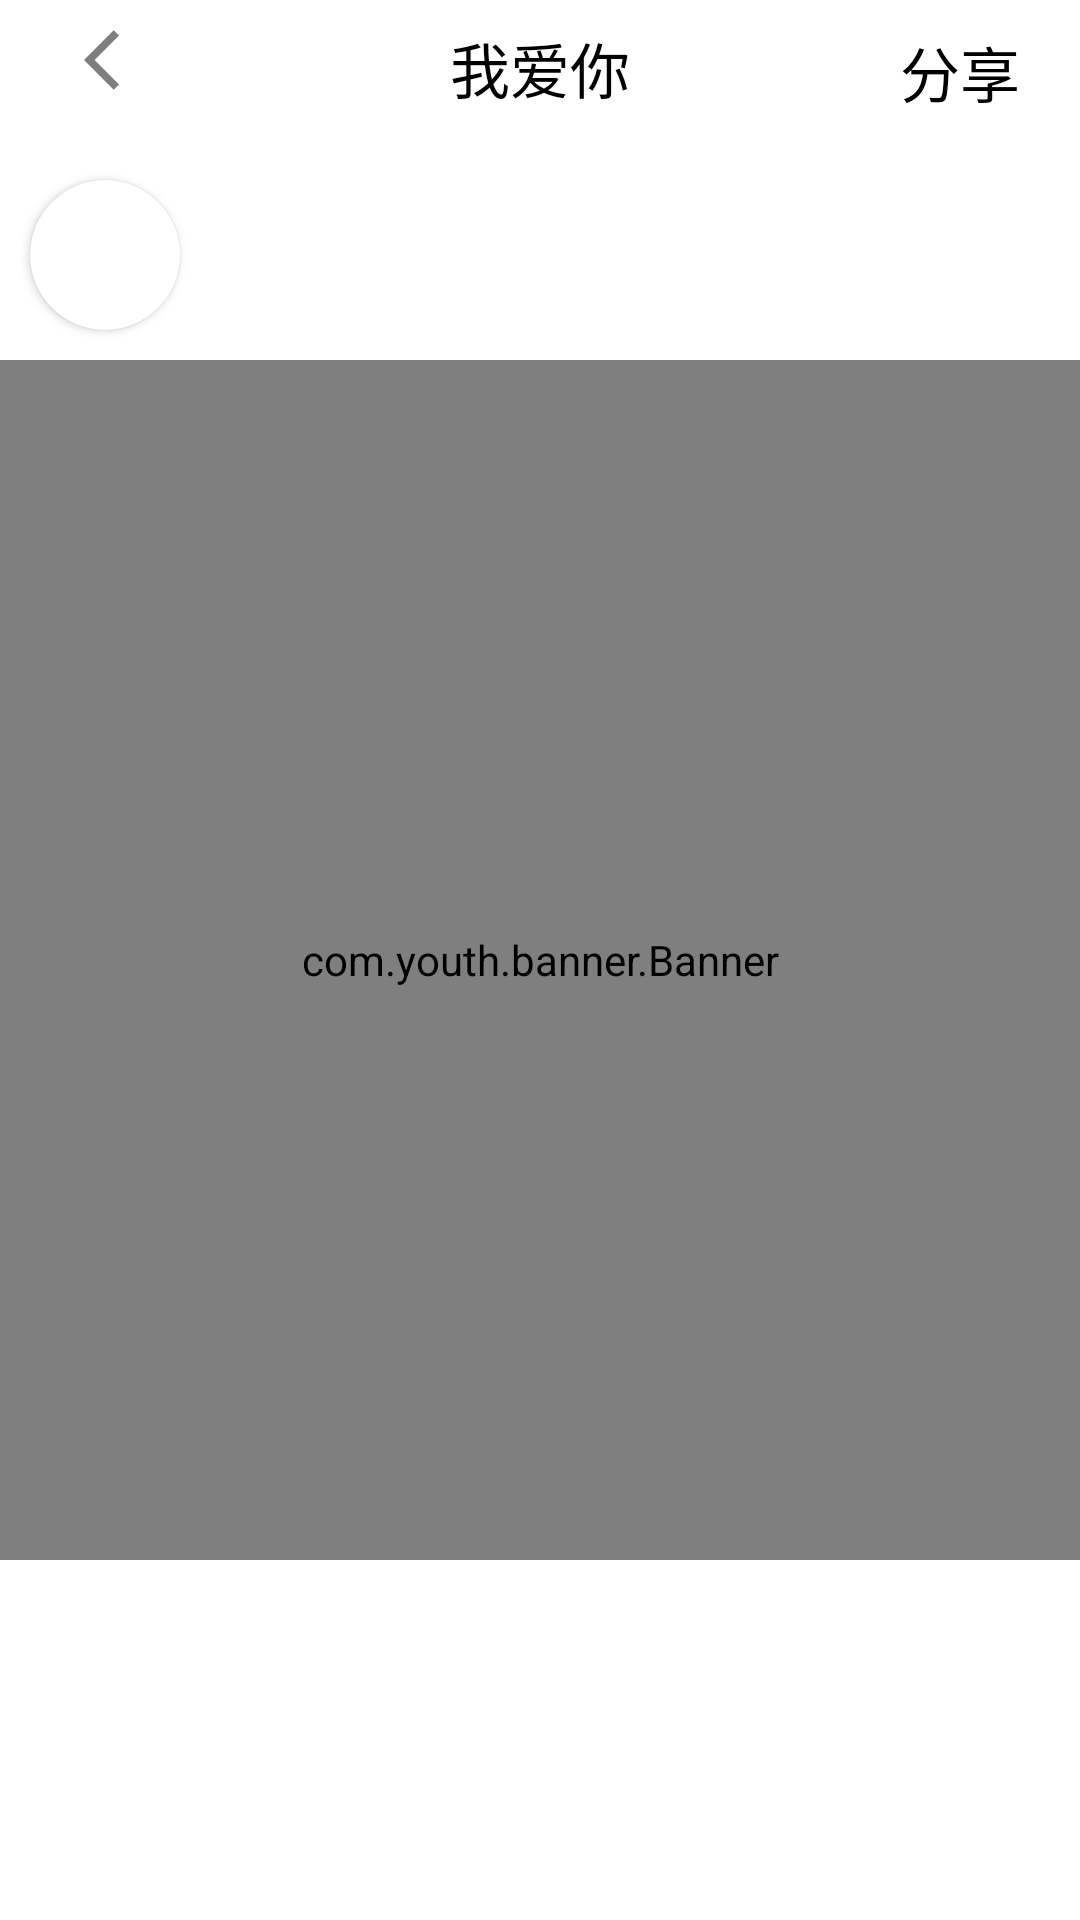

Screen size 1080×1920. Icon name, then its center in pixels as [x,y]:
arrow back: [101,60]
